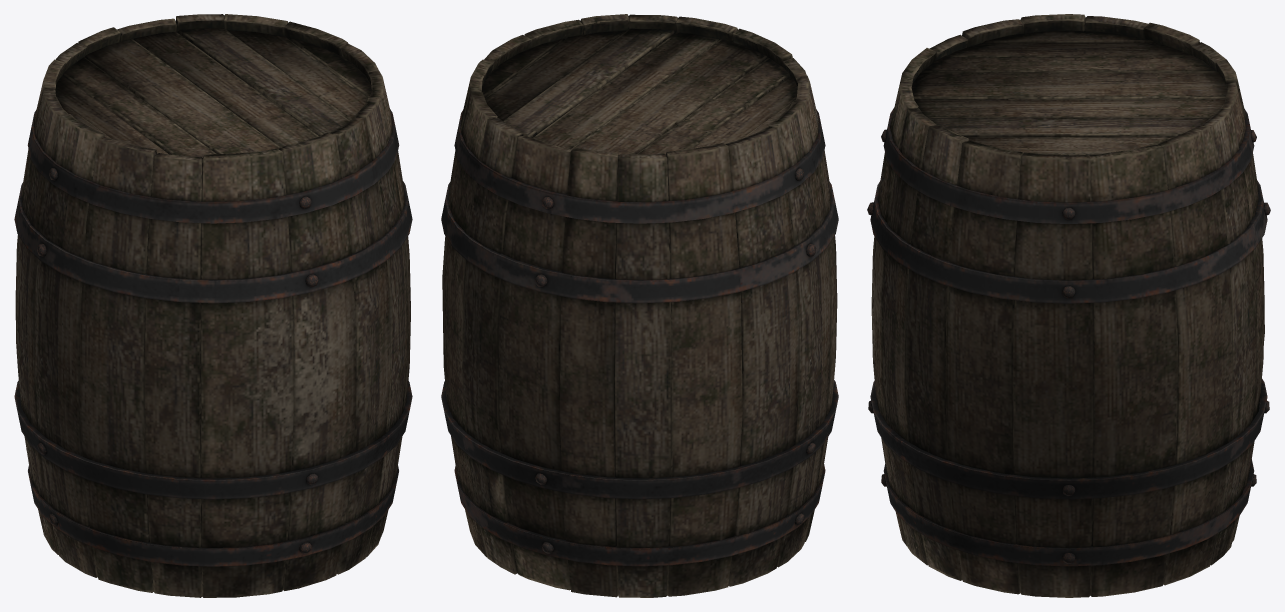
The model's file is WoodBarrel.fbx.
3 views of the same model, side by side, from view 1: azimuth 30°, elevation 25°; view 2: azimuth 150°, elevation 25°; view 3: azimuth 270°, elevation 25° (orthographic).
Parts seen in each view (by area): view 1: WoodBarrel; view 2: WoodBarrel; view 3: WoodBarrel.
Part boxes in pixels (<box>): WoodBarrel: <box>14,14,412,597</box>; WoodBarrel: <box>441,14,838,597</box>; WoodBarrel: <box>867,14,1270,597</box>.
Bounding box in the file's own units: 0.8277 × 0.9978 × 0.8277.
Materials: 1 (1 with a texture image).
